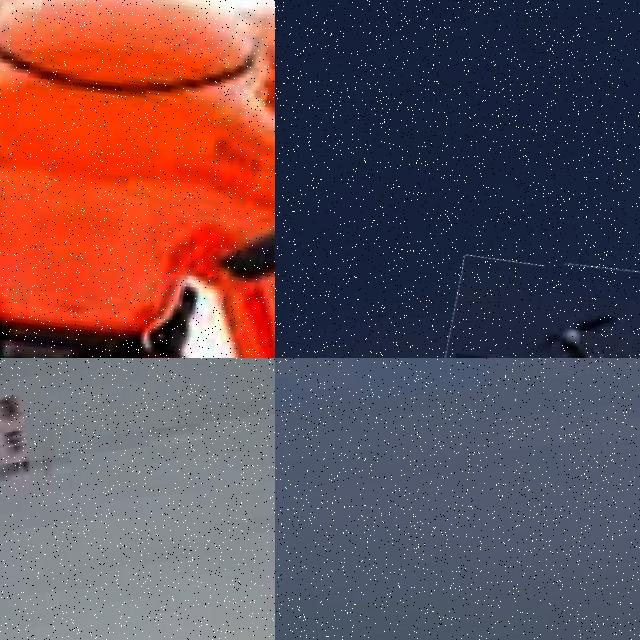drone: (0, 0, 275, 358), (420, 235, 640, 358)
